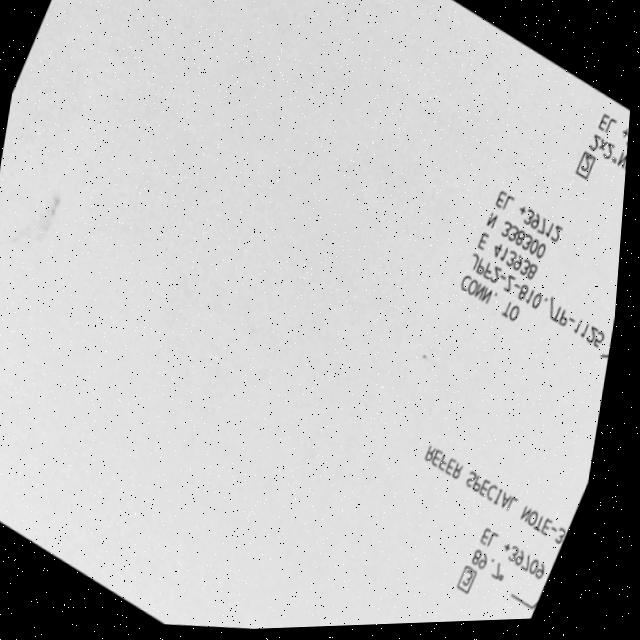Item number: (463, 564, 491, 605), (576, 150, 601, 188)
Measrement: (475, 546, 521, 594), (587, 131, 630, 181)
other: (456, 179, 624, 381), (428, 441, 580, 560), (481, 524, 559, 588), (596, 111, 631, 156)
